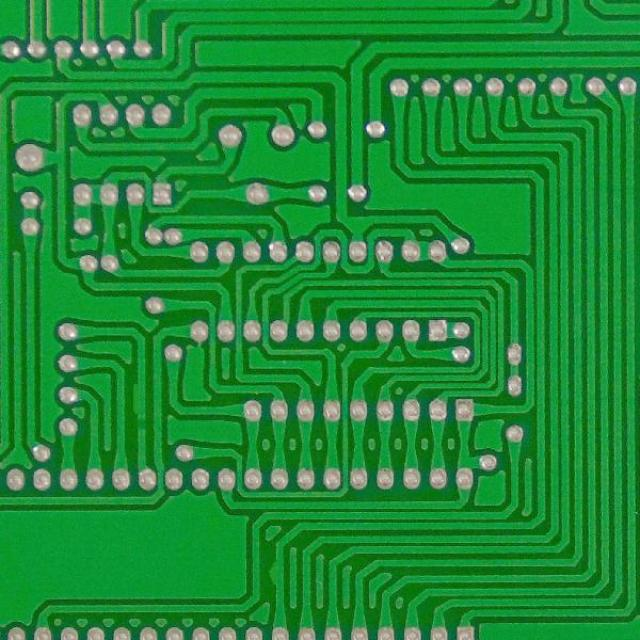Spur: (128, 379, 150, 419), (265, 557, 288, 591)
